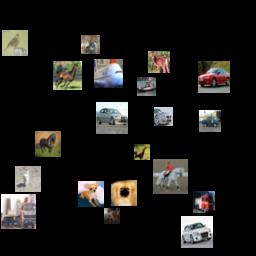airplane: (94, 59, 123, 88)
automobile: (181, 216, 213, 248), (96, 102, 128, 134), (198, 61, 230, 93), (154, 107, 173, 126)
bird: (2, 30, 28, 56), (134, 144, 150, 160)
deer: (148, 51, 170, 73), (81, 35, 100, 54)
dog: (78, 181, 104, 207), (15, 166, 41, 192), (111, 180, 137, 206), (104, 208, 120, 224)
ship: (137, 77, 156, 96)
truck: (1, 194, 36, 229), (199, 110, 221, 132), (193, 191, 215, 213)
